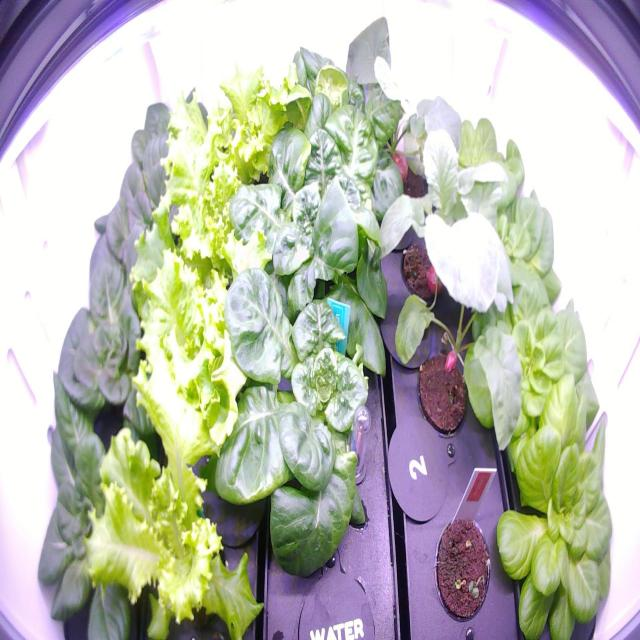young: (205, 263, 404, 588), (16, 355, 196, 640), (215, 103, 398, 349), (42, 222, 224, 466), (243, 5, 419, 211), (489, 364, 623, 632), (466, 252, 608, 477), (82, 156, 226, 324), (450, 176, 573, 349), (122, 76, 228, 216), (426, 93, 534, 225)
